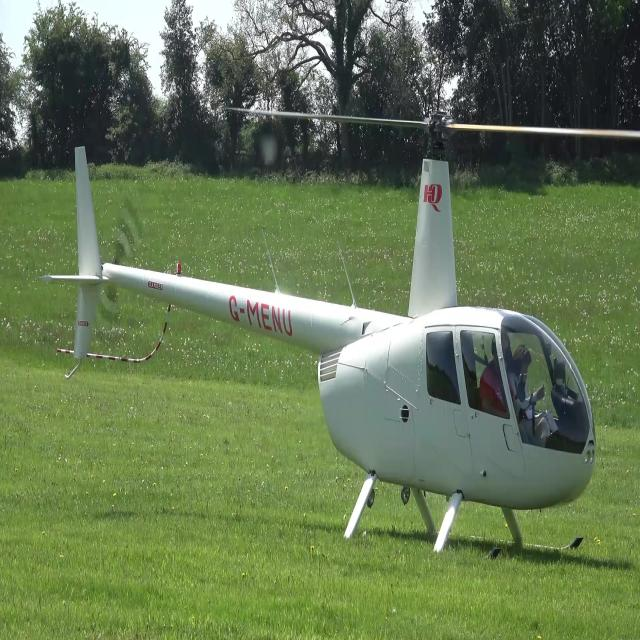CIV_HELO: (34, 106, 598, 578)
